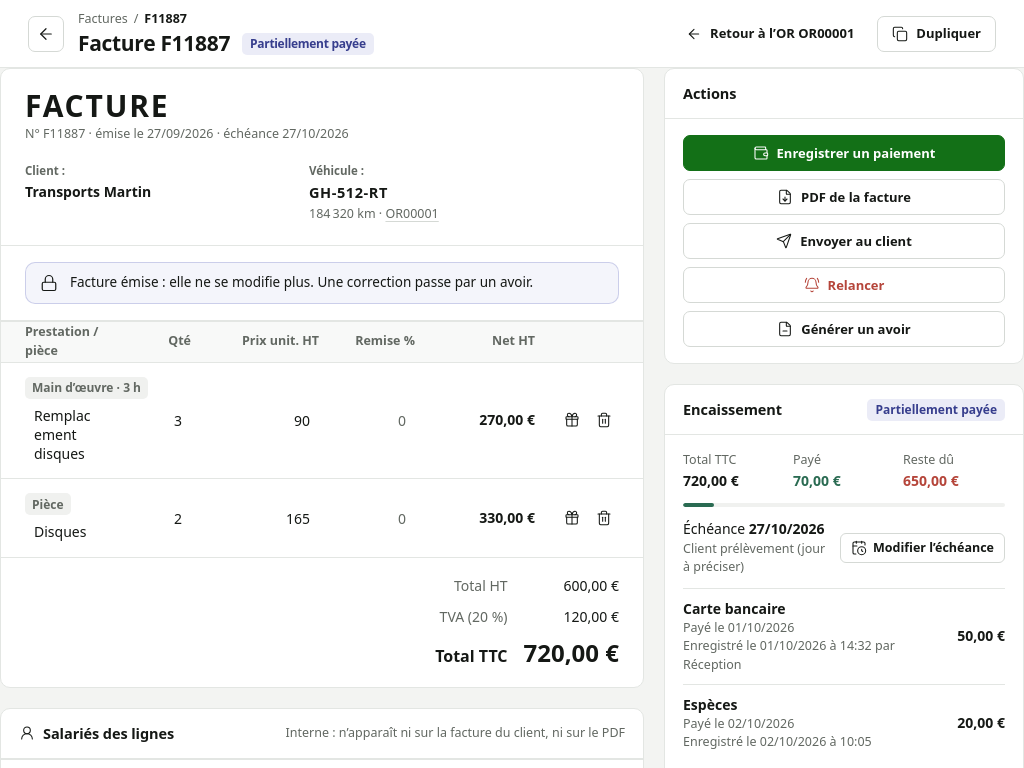
Test: facture émise › paiements en plusieurs fois : mode, date et horodatage ; mode du client en prélèvement
Expected: the list item that starts with "Espèces" reads "Espèces Payé le 02/10/2026 Enregistré le 02/10/2026 à 10:05 20,00 €", [683, 684, 1005, 761]
Click the button "Enregistrer un paiement".
click(844, 153)  # box [683, 135, 1005, 171]
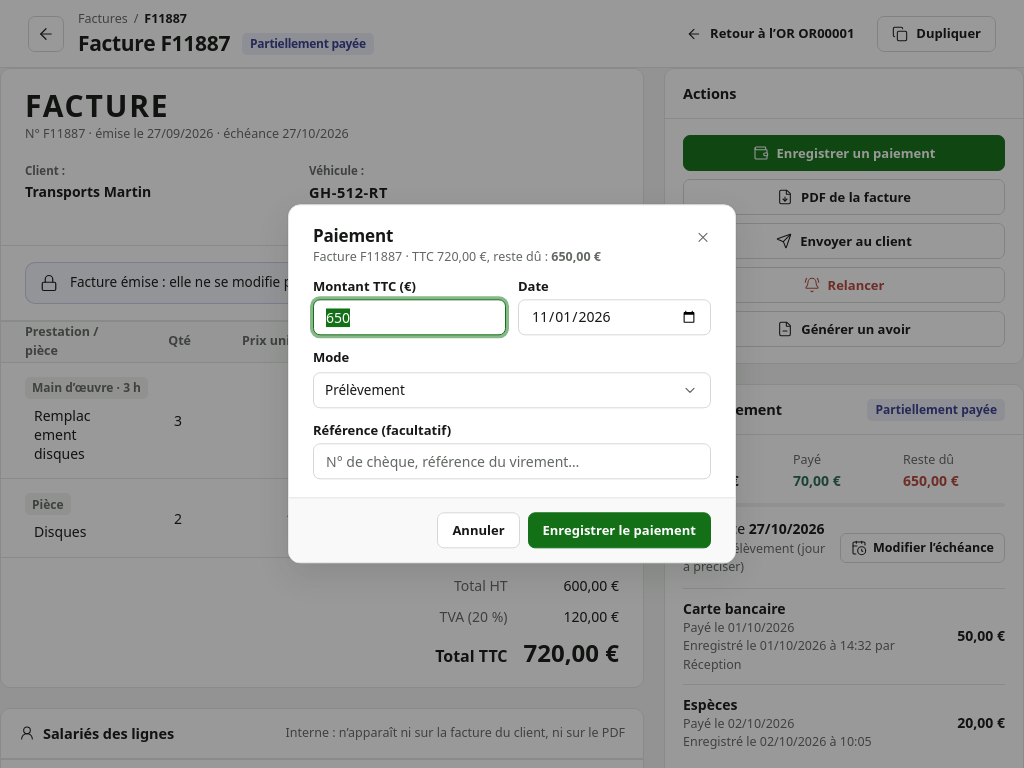
Now the dropdown labelled "Mode" shows "Prélèvement", box [313, 373, 711, 409]
Replace the text in the field labelled "Montant TTC (€)" with "600" at {"x": 410, "y": 318}, box [313, 300, 506, 336]
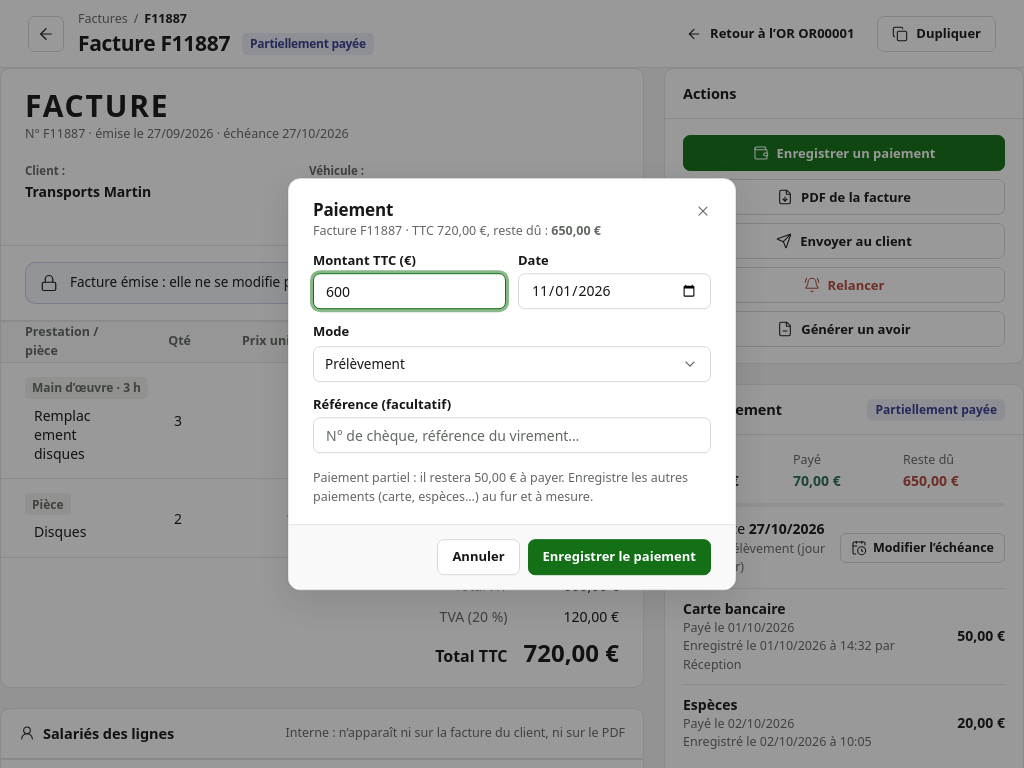
Now the message shows "il restera 50,00 € à payer", box [313, 470, 711, 506]
